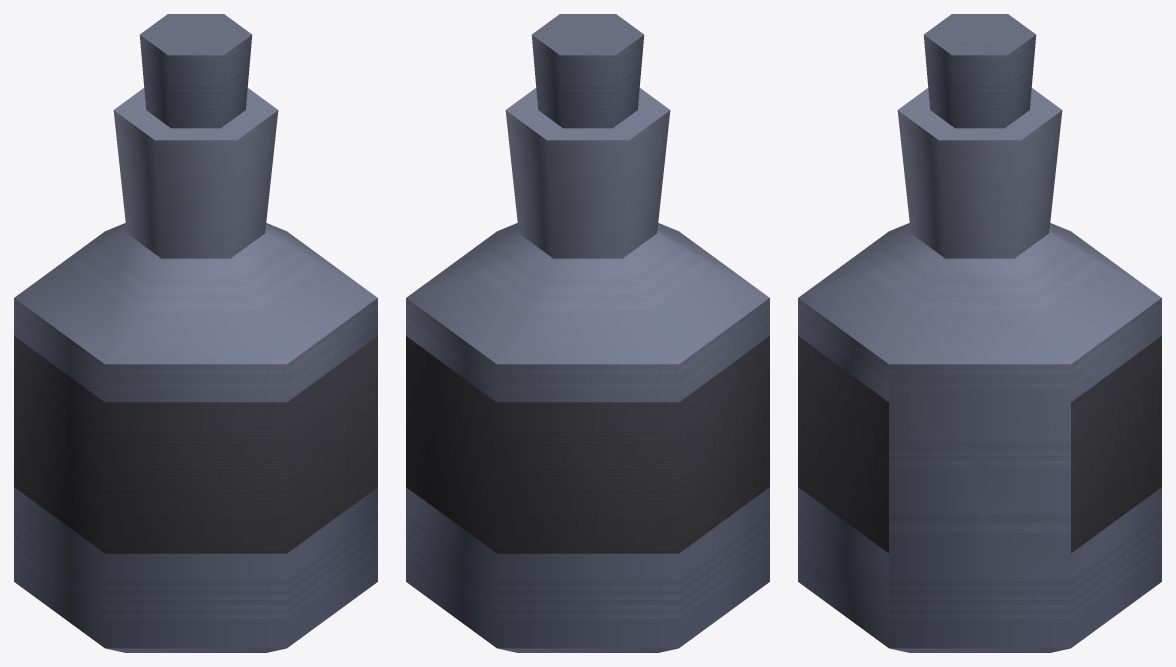
Rendered from bottle-large.glb.
3 renders of one model, left to right at view 1: azimuth 30°, elevation 25°; view 2: azimuth 150°, elevation 25°; view 3: azimuth 270°, elevation 25°, orthographic.
Visible parts, largest first — view 1: bottle-large; view 2: bottle-large; view 3: bottle-large.
Part boxes in pixels (<box>): bottle-large: <box>14,14,377,652</box>; bottle-large: <box>406,14,769,652</box>; bottle-large: <box>798,14,1161,652</box>.
Size of the model in its own units: 0.0724 by 0.1439 by 0.0837.
Materials: 1 (1 with a texture image).
